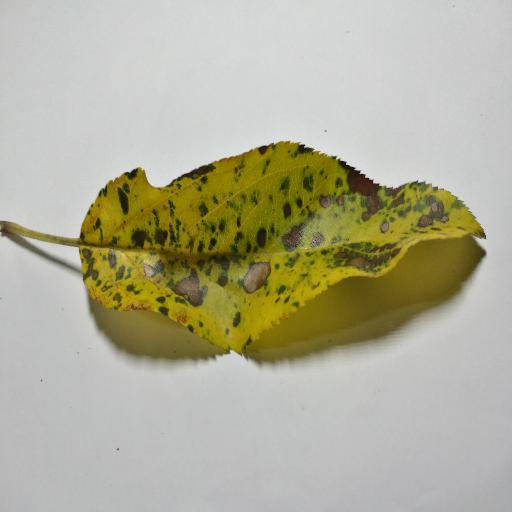Brown_Spot: (335, 173, 379, 214), (326, 246, 388, 266), (169, 271, 205, 302), (410, 203, 441, 223), (244, 263, 266, 289), (281, 223, 303, 248), (319, 190, 331, 208), (376, 219, 391, 230)
